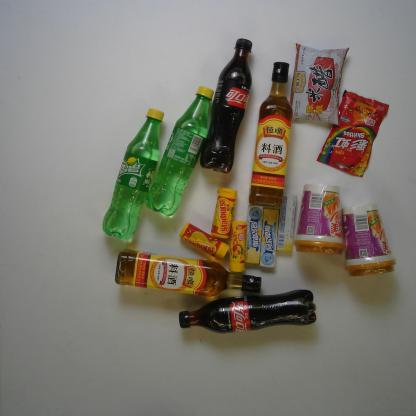Candy: (313, 87, 394, 178), (176, 220, 233, 260), (275, 189, 302, 257), (208, 184, 239, 242), (257, 206, 282, 271), (227, 216, 251, 274), (244, 204, 264, 266)
Drink: (142, 83, 218, 219), (101, 106, 168, 245), (197, 37, 258, 178), (175, 287, 319, 337)
Instant Drink: (341, 200, 401, 280), (292, 182, 347, 257)
Seasoner: (111, 248, 264, 300), (248, 59, 294, 210), (286, 39, 354, 128)
